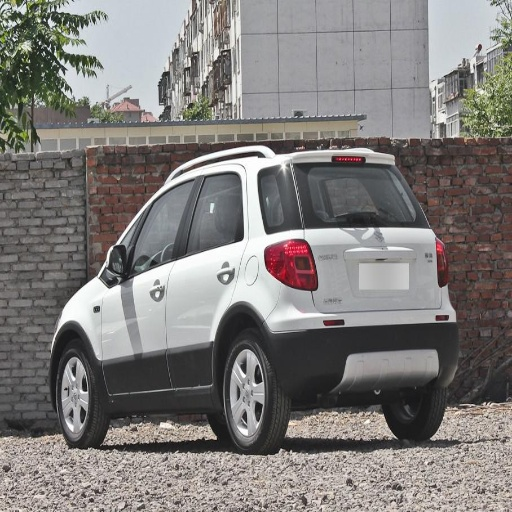back_bumper: (264, 283, 363, 404), (390, 340, 443, 383)
back_glass: (260, 164, 423, 230)
back_left_door: (167, 168, 246, 391)
trunk: (306, 231, 440, 325)
